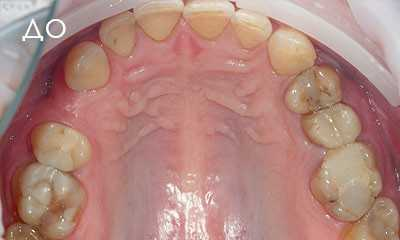UL1BC_decay: (282, 64, 343, 115)
UL1M_decay: (306, 145, 380, 223)
UL2BC_decay: (301, 103, 360, 150)
UL2M_decay: (339, 198, 400, 238)
ULCI_healthy: (185, 1, 233, 42)
ULC_healthy: (268, 30, 317, 76)
ULLI_healthy: (233, 12, 269, 49)
UR1M_decay: (8, 167, 86, 238)
UR2BC_decay: (27, 122, 92, 172)
URCI_healthy: (133, 1, 187, 37)
URC_healthy: (66, 48, 111, 92)
URLI_healthy: (100, 11, 136, 59)
